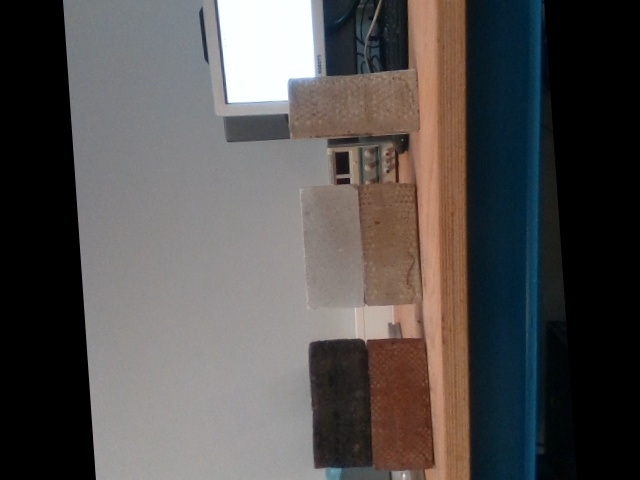brick: (286, 69, 420, 137), (367, 338, 429, 470), (309, 340, 370, 467), (302, 185, 363, 306), (361, 183, 422, 304)
